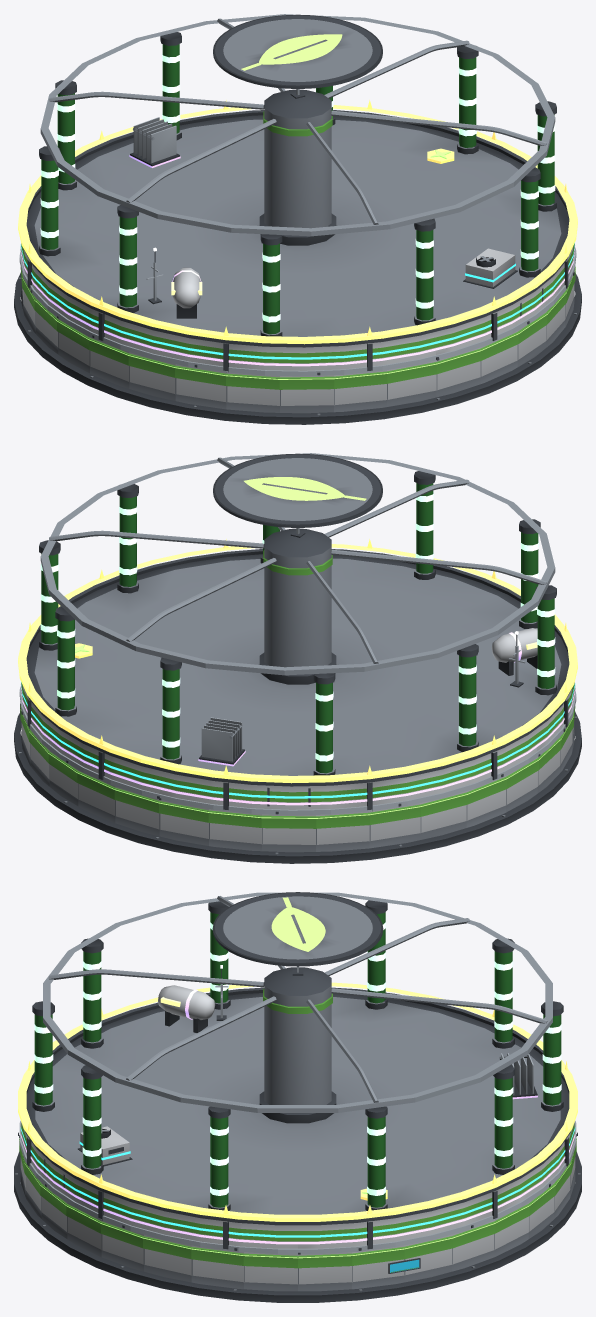
Rendered from algae_bioreactor_l.glb.
The picture shows the model from 3 angles, top to bottom: view 1: azimuth 30°, elevation 25°; view 2: azimuth 150°, elevation 25°; view 3: azimuth 270°, elevation 25°; orthographic projection.
Parts seen in each view (by area): view 1: Roof, Base, L4, Wall_21, Wall_20, Wall_22, Wall_19, Wall_23, Wall_18, Wall_24, L3, Wall_17 (+19 smaller); view 2: Roof, Base, L4, Wall_10, Wall_11, Wall_09, Wall_12, Wall_08, Wall_13, Wall_07, Wall_14, Wall_06 (+18 smaller); view 3: Roof, Base, L4, Wall_00, Wall_31, Wall_30, Wall_29, Wall_01, Wall_02, Wall_28, Wall_03, Wall_04 (+19 smaller).
Boxes of the visible parts, left/top/right/bottom form: Roof: left=23, top=14, right=569, bottom=347; Base: left=14, top=272, right=581, bottom=424; L4: left=129, top=117, right=202, bottom=318; Wall_21: left=279, top=375, right=334, bottom=413; Wall_20: left=226, top=371, right=279, bottom=412; Wall_22: left=334, top=370, right=387, bottom=412; Wall_19: left=175, top=364, right=226, bottom=409; Wall_23: left=387, top=360, right=436, bottom=406; Wall_18: left=128, top=352, right=175, bottom=400; Wall_24: left=436, top=347, right=481, bottom=397; L3: left=463, top=248, right=517, bottom=288; Wall_17: left=88, top=337, right=129, bottom=388; Roof: left=26, top=453, right=572, bottom=786; Base: left=14, top=711, right=581, bottom=863; L4: left=198, top=628, right=537, bottom=766; Wall_10: left=261, top=814, right=316, bottom=852; Wall_11: left=316, top=811, right=369, bottom=851; Wall_09: left=208, top=809, right=261, bottom=851; Wall_12: left=369, top=803, right=420, bottom=848; Wall_08: left=159, top=798, right=208, bottom=845; Wall_13: left=420, top=791, right=467, bottom=839; Wall_07: left=114, top=786, right=159, bottom=836; Wall_14: left=466, top=776, right=507, bottom=827; Wall_06: left=77, top=770, right=115, bottom=822; Roof: left=25, top=892, right=570, bottom=1225; Base: left=14, top=1151, right=581, bottom=1302; L4: left=158, top=985, right=537, bottom=1099; Wall_00: left=298, top=1252, right=352, bottom=1291; Wall_31: left=243, top=1252, right=297, bottom=1291; Wall_30: left=191, top=1245, right=243, bottom=1289; Wall_29: left=143, top=1234, right=191, bottom=1282; Wall_01: left=352, top=1245, right=404, bottom=1289; Wall_02: left=404, top=1234, right=452, bottom=1282; Wall_28: left=100, top=1219, right=143, bottom=1271; Wall_03: left=452, top=1220, right=495, bottom=1271; Wall_04: left=494, top=1203, right=529, bottom=1257.
Size of the model in its own units: 17.16 by 8.5 by 17.16.
